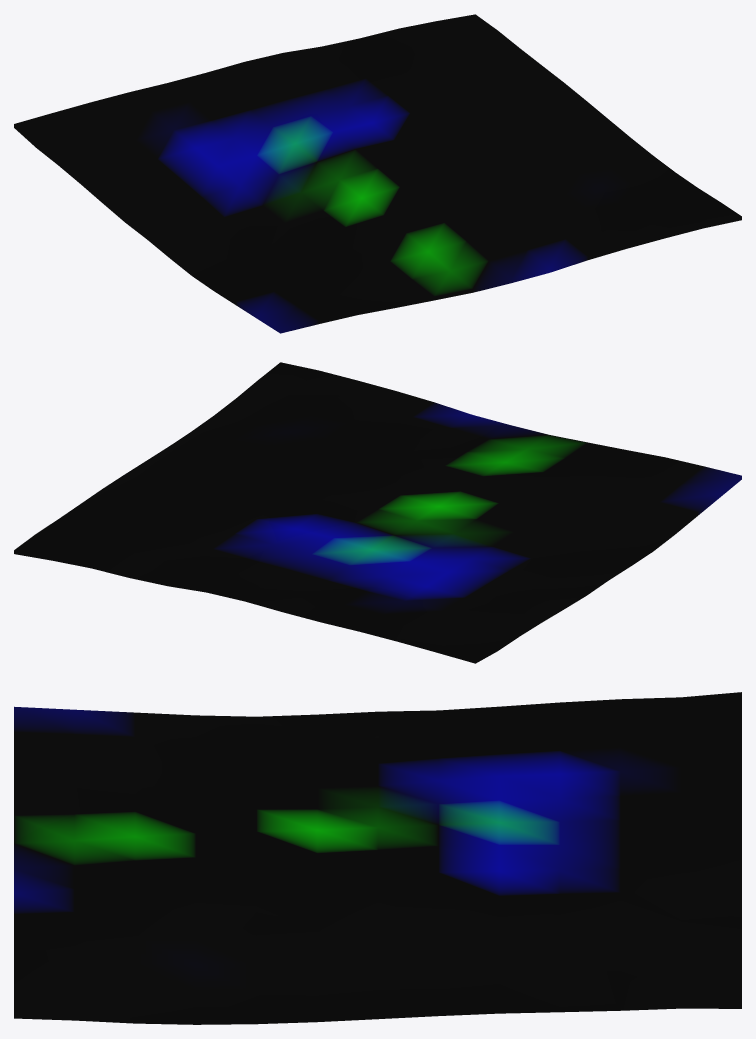
The model's file is coast_23_6.glb.
3 renders of one model, top to bottom at view 1: azimuth 30°, elevation 25°; view 2: azimuth 150°, elevation 25°; view 3: azimuth 270°, elevation 25°, orthographic. The views are drawn at different scales.
Parts seen in each view (by area): view 1: terrain; view 2: terrain; view 3: terrain.
Boxes of the visible parts, x1=… form: terrain: x1=14, y1=14, x2=741, y2=333; terrain: x1=14, y1=362, x2=741, y2=663; terrain: x1=14, y1=692, x2=741, y2=1024.
Size of the model in its own units: 192 by 11.02 by 192.
